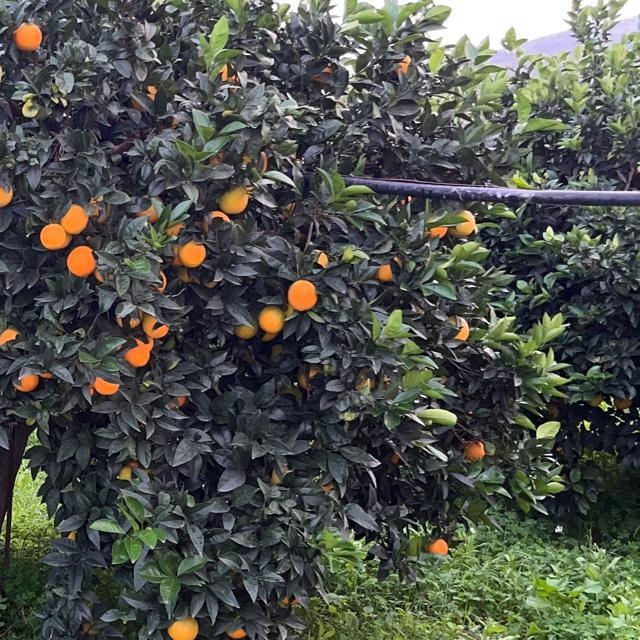orange: (287, 278, 319, 308), (61, 202, 89, 236), (39, 221, 67, 249), (221, 186, 251, 212), (168, 615, 198, 640), (352, 367, 382, 391), (309, 59, 335, 85), (68, 246, 92, 274), (259, 306, 285, 330), (180, 240, 206, 264), (123, 343, 151, 365), (450, 313, 472, 341), (424, 534, 450, 556), (452, 209, 474, 235), (92, 375, 120, 395), (463, 436, 485, 460), (132, 85, 154, 109), (145, 316, 169, 338), (301, 362, 325, 382), (16, 25, 36, 47), (0, 325, 20, 347), (15, 371, 37, 391), (120, 461, 140, 481), (91, 199, 111, 219), (394, 55, 412, 77), (118, 308, 140, 326), (138, 203, 158, 221), (227, 623, 247, 640), (314, 248, 332, 266), (0, 182, 13, 206), (233, 323, 255, 337), (376, 262, 394, 278), (165, 244, 179, 264), (205, 212, 227, 224), (219, 65, 235, 81), (171, 392, 187, 408), (428, 224, 446, 238), (196, 274, 214, 288), (158, 269, 168, 293), (65, 528, 81, 540), (166, 224, 184, 234), (322, 478, 334, 492), (616, 398, 632, 408), (178, 271, 190, 283), (281, 596, 299, 604), (273, 472, 285, 484), (97, 272, 113, 280), (390, 454, 402, 464), (211, 154, 223, 164), (589, 395, 601, 405), (550, 407, 560, 417), (394, 256, 402, 266)
